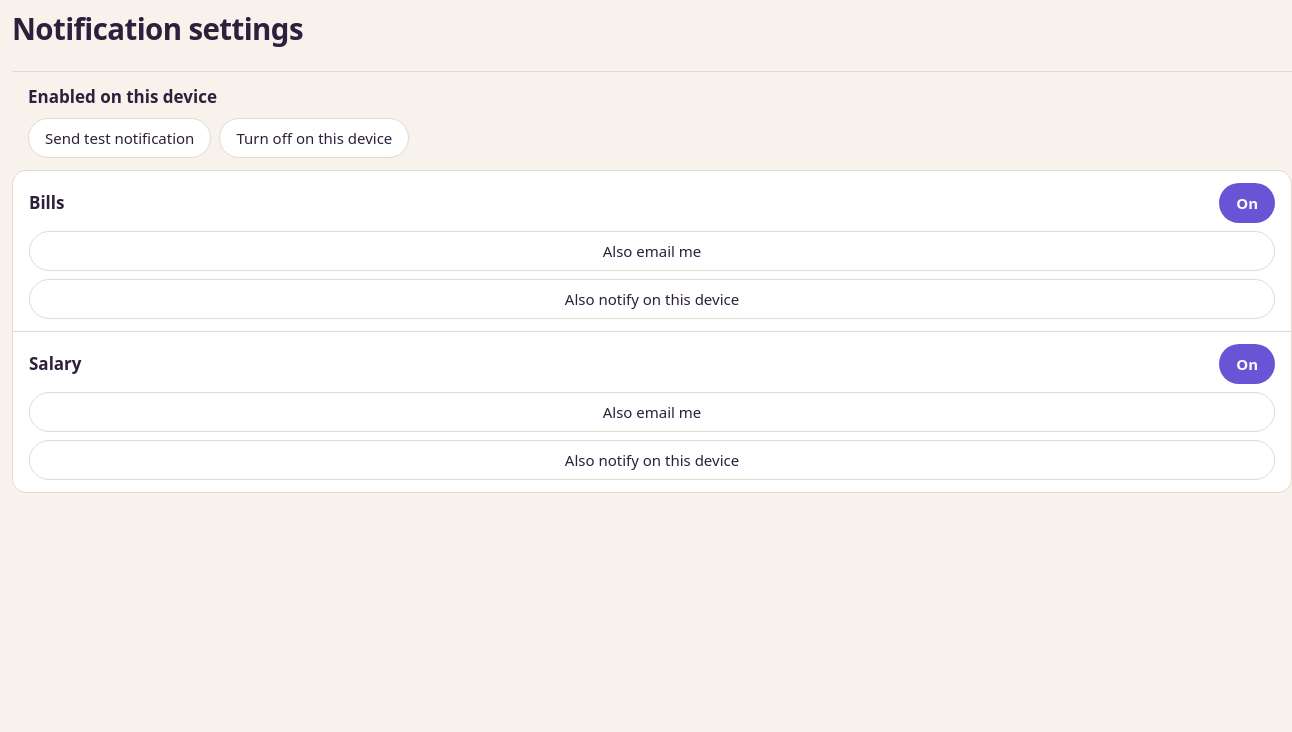
Test case: NotificationSettingsPage › shows the test-notification button once subscribed, and sends a test push on click
The image size is (1292, 732).
Click the button "Send test notification".
click(120, 138)  # box [28,118,211,158]
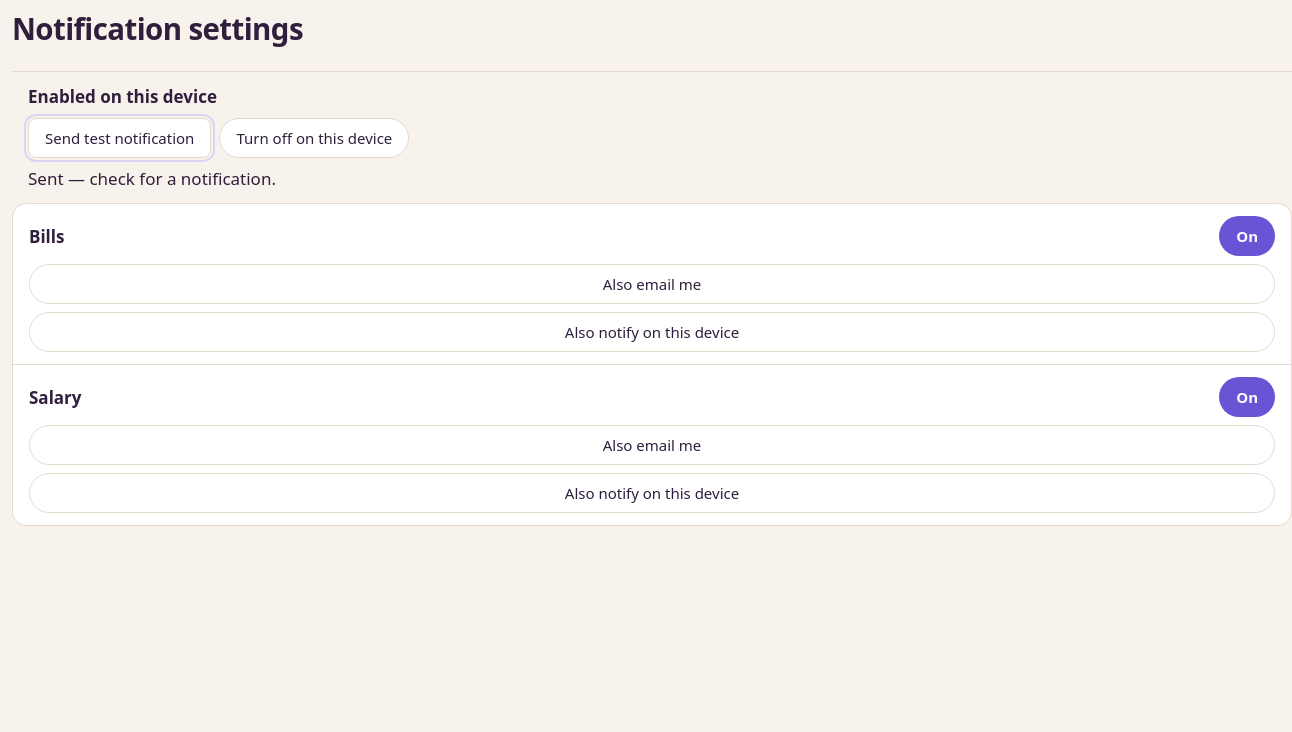
Result: the text "Sent — check for a notification." is shown at [28,167,276,190]
